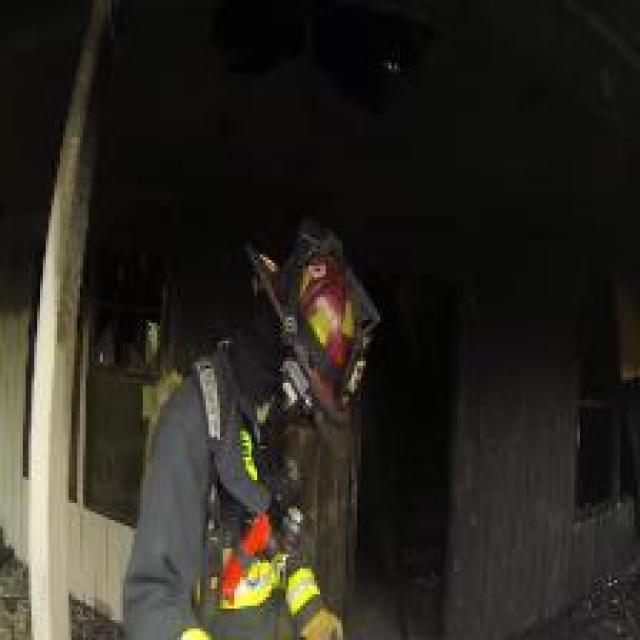other: (271, 251, 364, 368), (225, 516, 288, 611)
